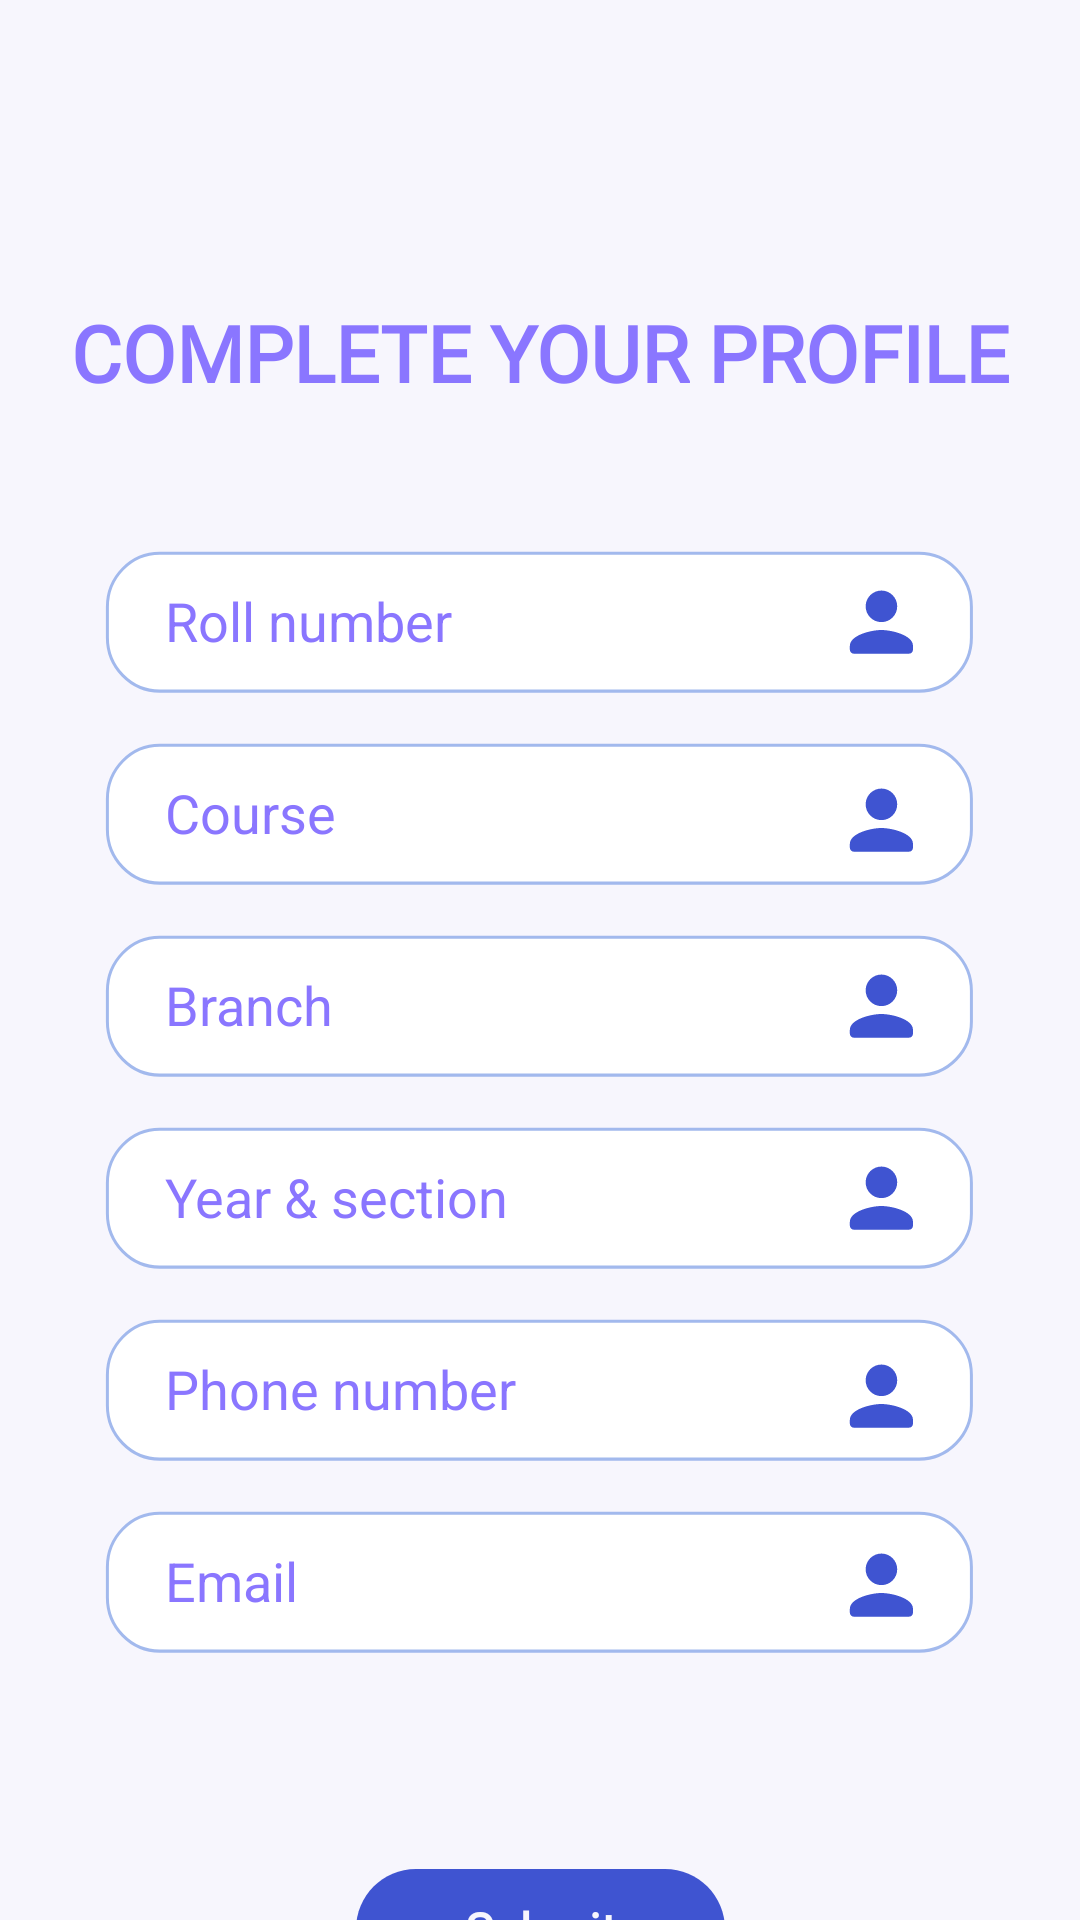

Screen size 1080×1920. Icon name, then its center in pixels as [x,y]:
profile: [881,622], [881,820], [881,1006], [881,1198], [881,1396], [881,1585]
